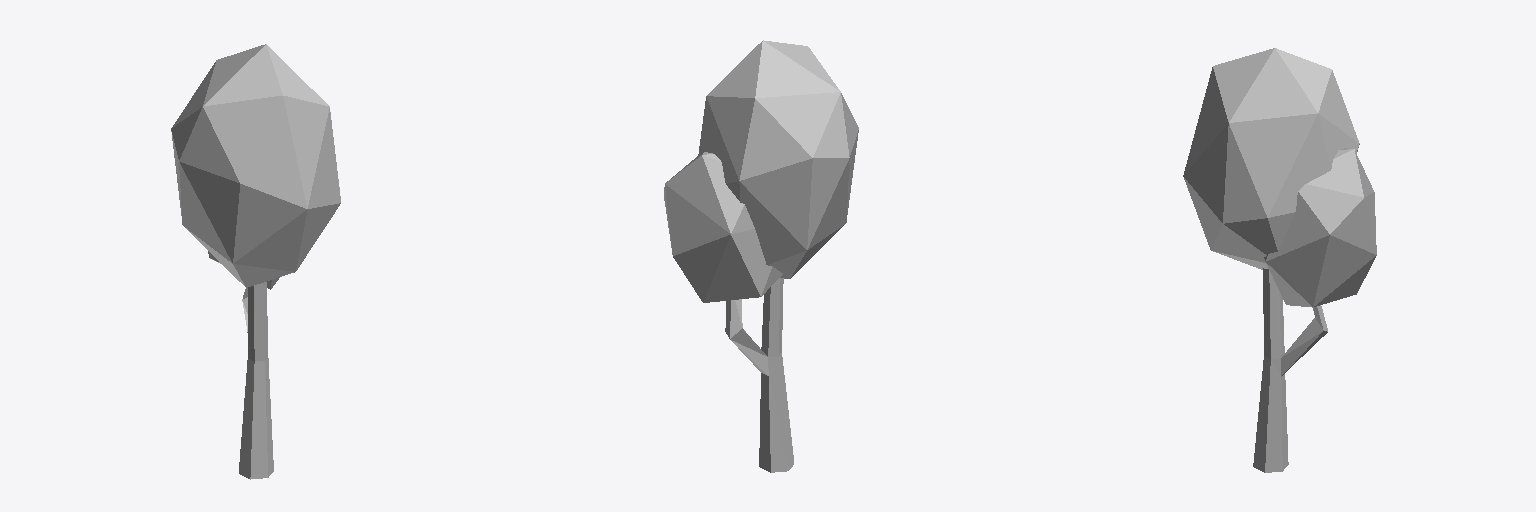
Rendered from tree3.obj.
3 views of the same model, side by side, from view 1: azimuth 30°, elevation 25°; view 2: azimuth 150°, elevation 25°; view 3: azimuth 270°, elevation 25° (orthographic).
Parts seen in each view (by area): view 1: Icosphere.001_Icosphere.015, Cylinder.001_Cylinder.007; view 2: Icosphere.001_Icosphere.015, Cylinder.001_Cylinder.007; view 3: Icosphere.001_Icosphere.015, Cylinder.001_Cylinder.007.
Part boxes in pixels (bbox=[...]): Icosphere.001_Icosphere.015: bbox=[171, 44, 340, 289]; Cylinder.001_Cylinder.007: bbox=[239, 282, 273, 479]; Icosphere.001_Icosphere.015: bbox=[664, 40, 858, 302]; Cylinder.001_Cylinder.007: bbox=[725, 278, 793, 472]; Icosphere.001_Icosphere.015: bbox=[1183, 48, 1376, 307]; Cylinder.001_Cylinder.007: bbox=[1253, 268, 1327, 472].
Bounding box in the file's own units: 5.97 × 15.24 × 6.31.